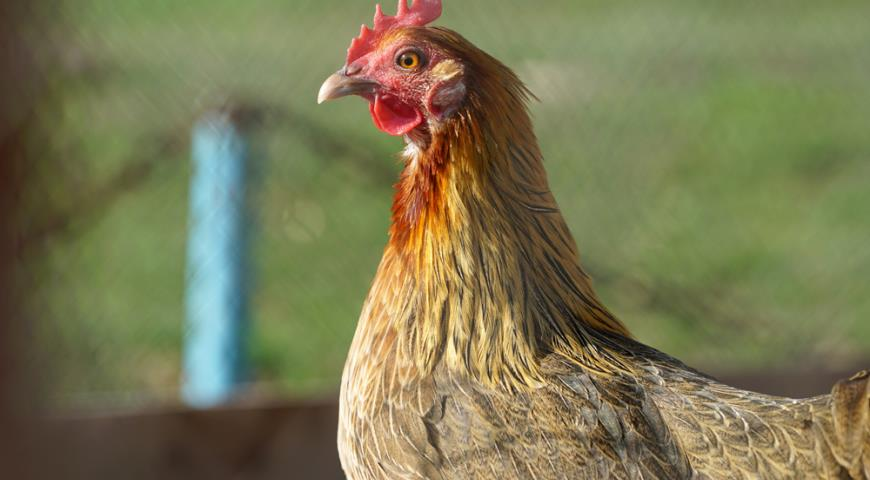chicken: (314, 1, 870, 480)
